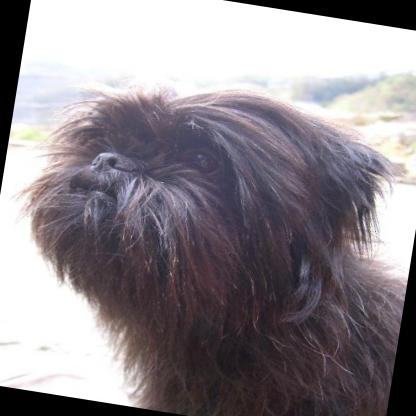affenpinscher: (0, 55, 416, 416)
